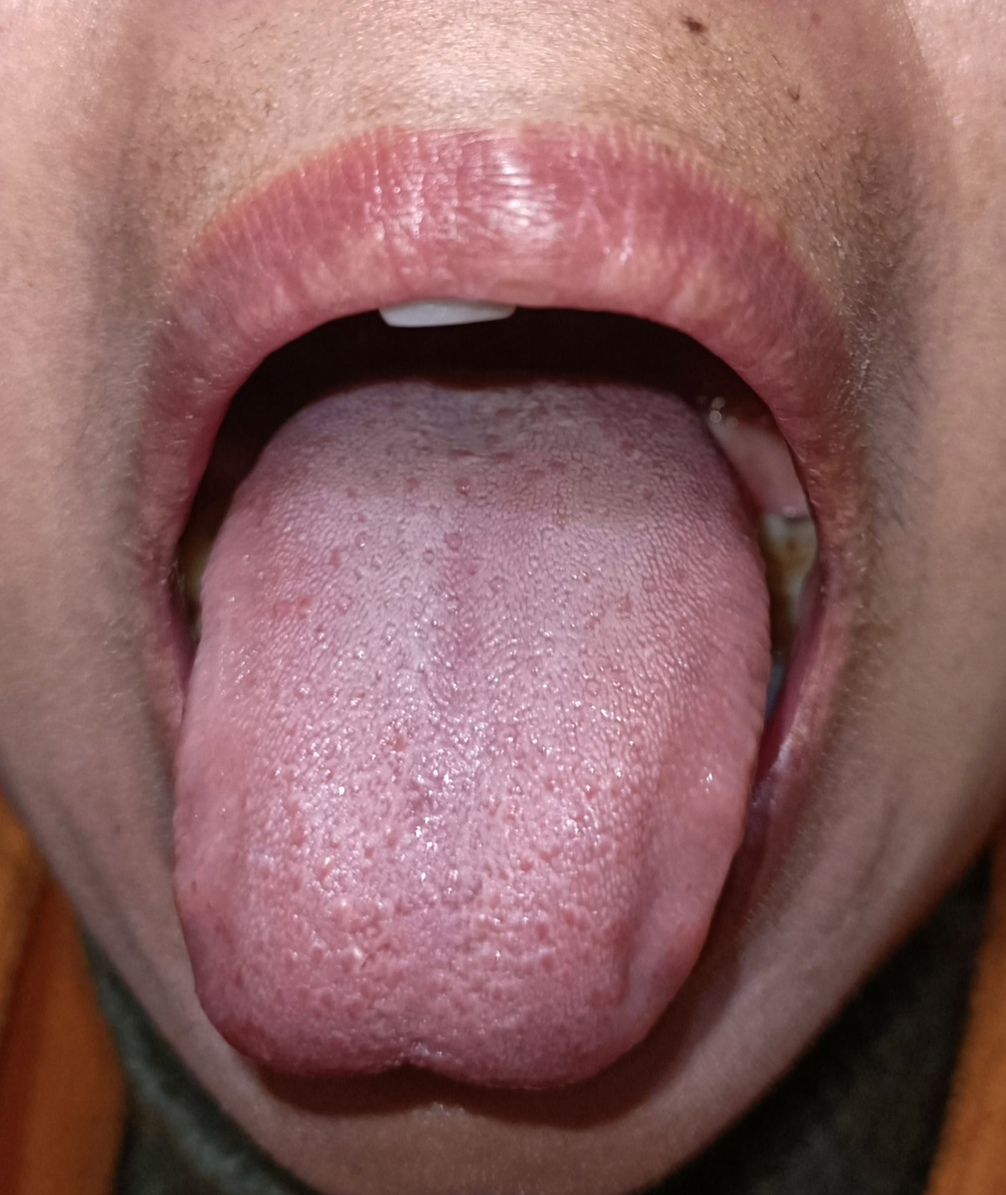baitaishe: (171, 384, 770, 1085)
hongshe: (170, 383, 769, 1084)
